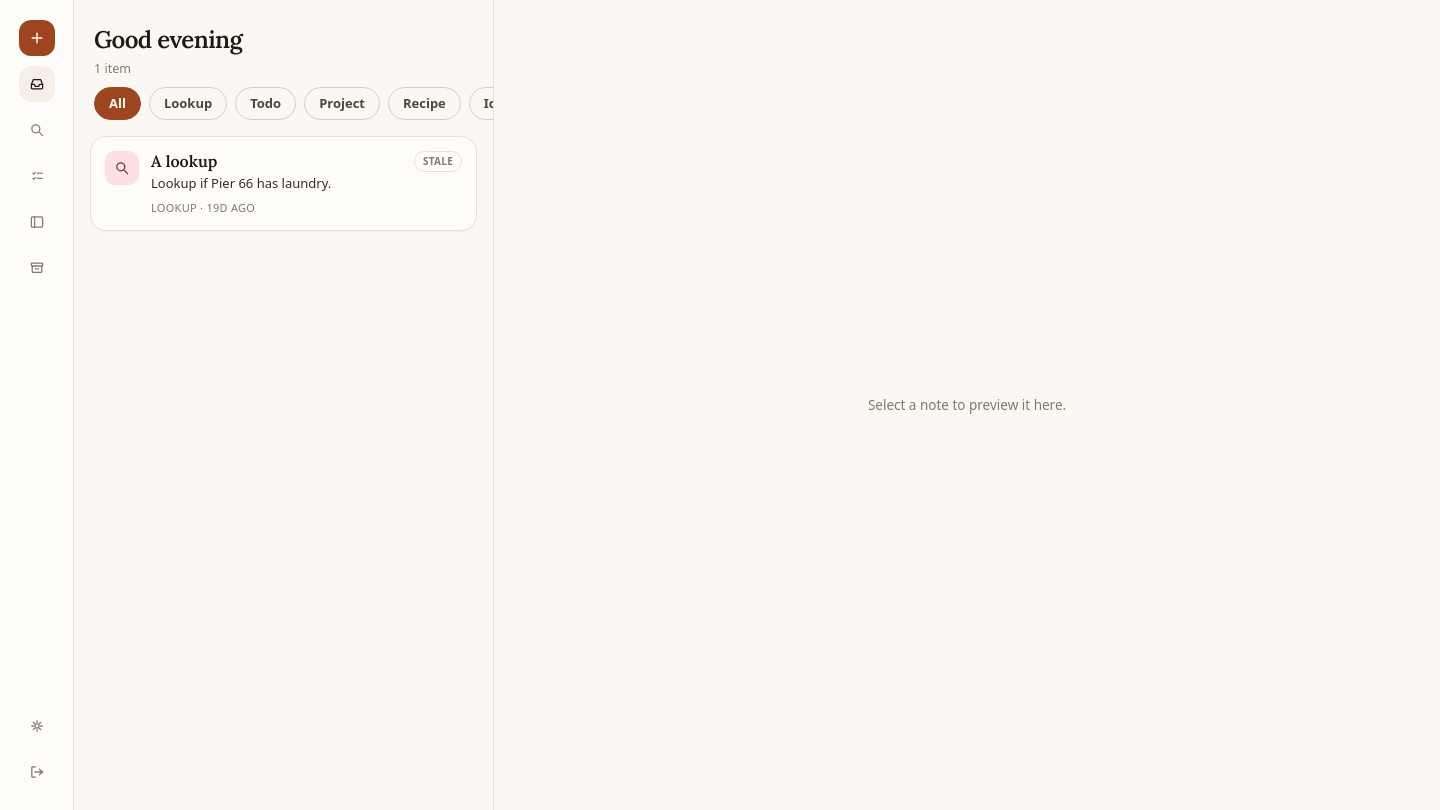
Test: Inbox › desktop: shows a two-pane layout with a rail, list, and an empty right pane until a row is picked
The width and height of the screenshot is (1440, 810).
expect the text "Select a note to preview it here." is shown: met, box [868,396,1066,414]
expect the link named "Vault" is shown: met, box [28,214,44,230]
Click the text "A lookup". click: click(184, 161)
box: [151,151,217,171]
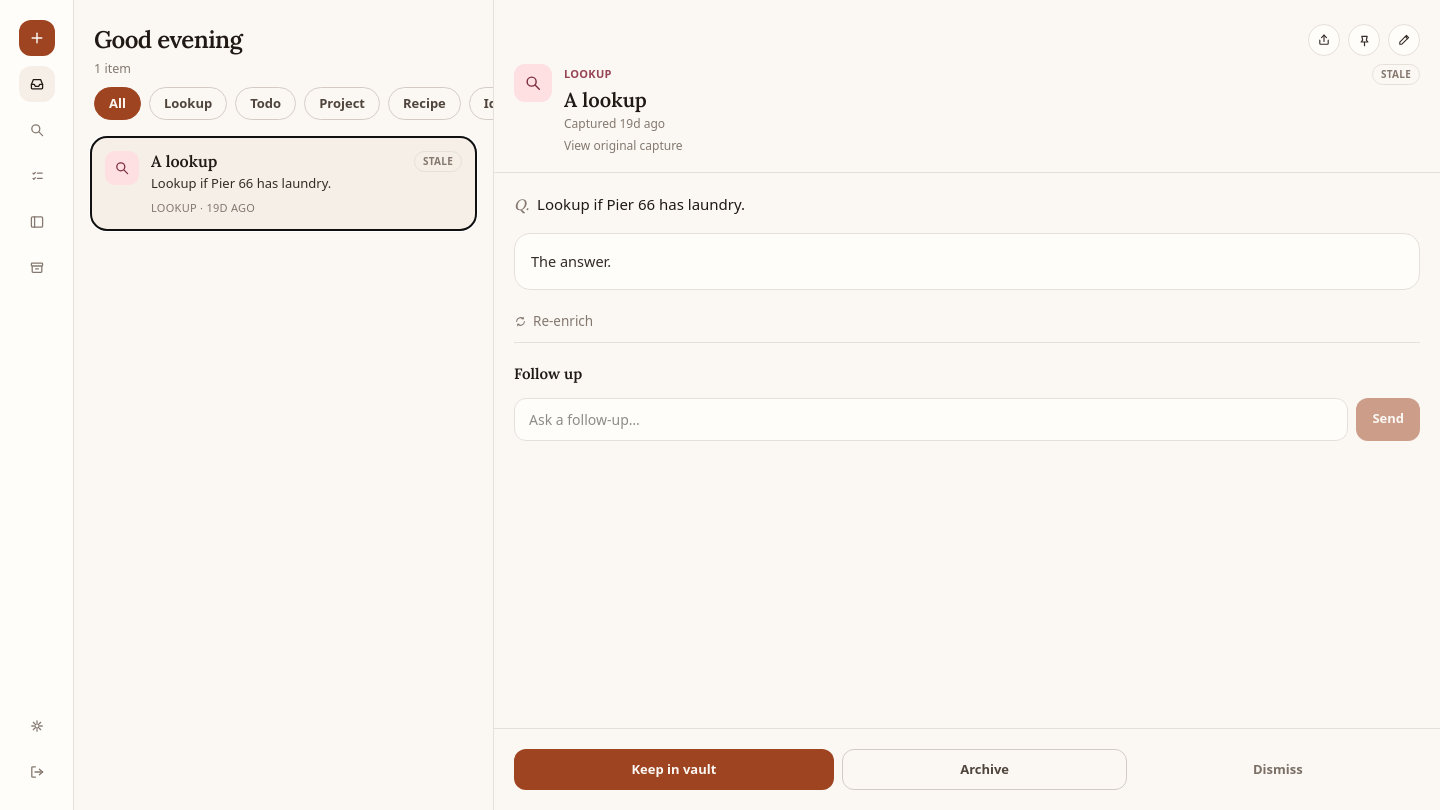
expect the text "The answer." is shown: met, box [514,232,1420,290]
expect the text "Select a note to preview it here." is gone: met
